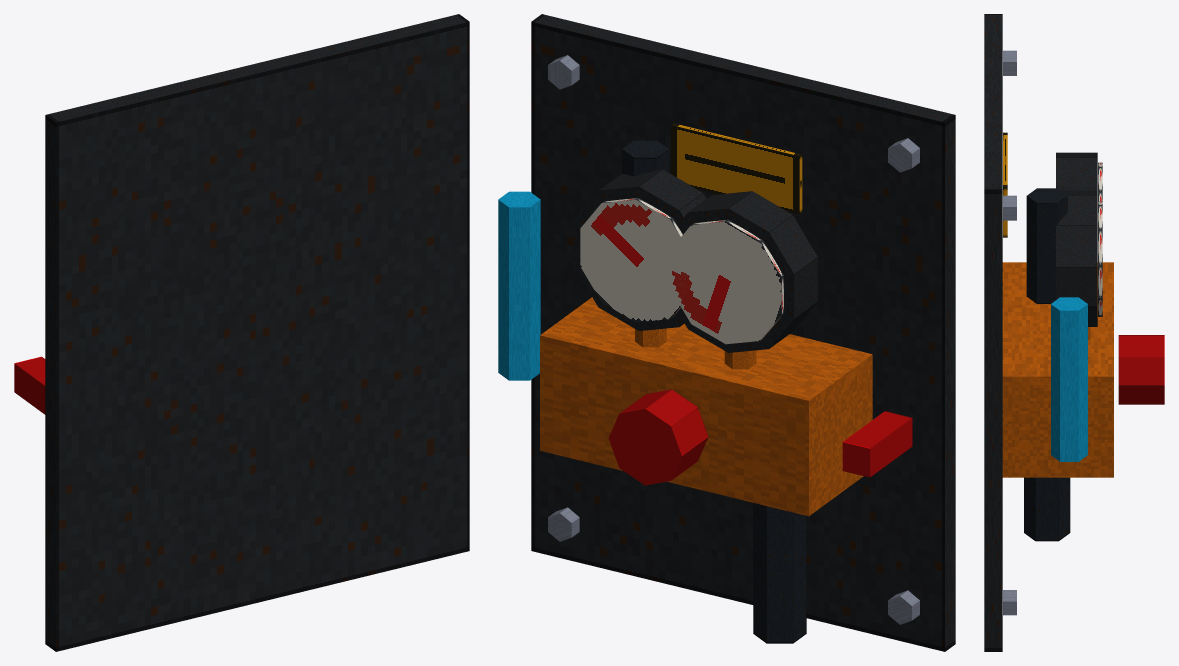
File: oxygen_regulator.glb
3 renders of one model, left to right at view 1: azimuth 30°, elevation 25°; view 2: azimuth 150°, elevation 25°; view 3: azimuth 270°, elevation 25°, orthographic. The views are drawn at different scales.
Visible parts, largest first — view 1: oxygen_regulator; view 2: oxygen_regulator; view 3: oxygen_regulator.
Boxes of the visible parts, box(x1,y1,x2,y2) form: oxygen_regulator: box(14, 14, 469, 651); oxygen_regulator: box(498, 14, 955, 651); oxygen_regulator: box(984, 14, 1164, 651).
Bounding box in the file's own units: 0.45 × 0.55 × 0.195.
Materials: 1 (1 with a texture image).
